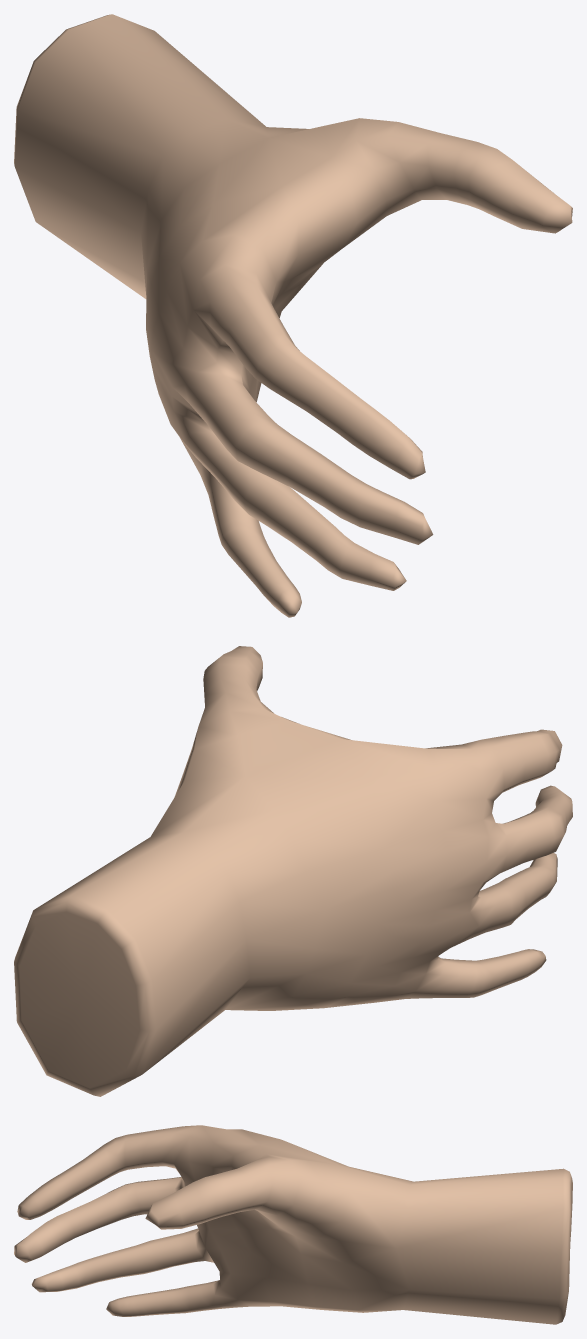
File: Hand_With_Joints.fbx
3 renders of one model, top to bottom at view 1: azimuth 30°, elevation 25°; view 2: azimuth 150°, elevation 25°; view 3: azimuth 270°, elevation 25°, orthographic. The views are drawn at different scales.
Parts seen in each view (by area): view 1: Hand_Right; view 2: Hand_Right; view 3: Hand_Right.
Part boxes in pixels (x1,y1,x2,y2): Hand_Right: (14,14,572,617); Hand_Right: (14,646,572,1096); Hand_Right: (14,1125,572,1324).
Bounding box in the file's own units: 52.62 × 48.71 × 111.
1 material, 1 textured.
